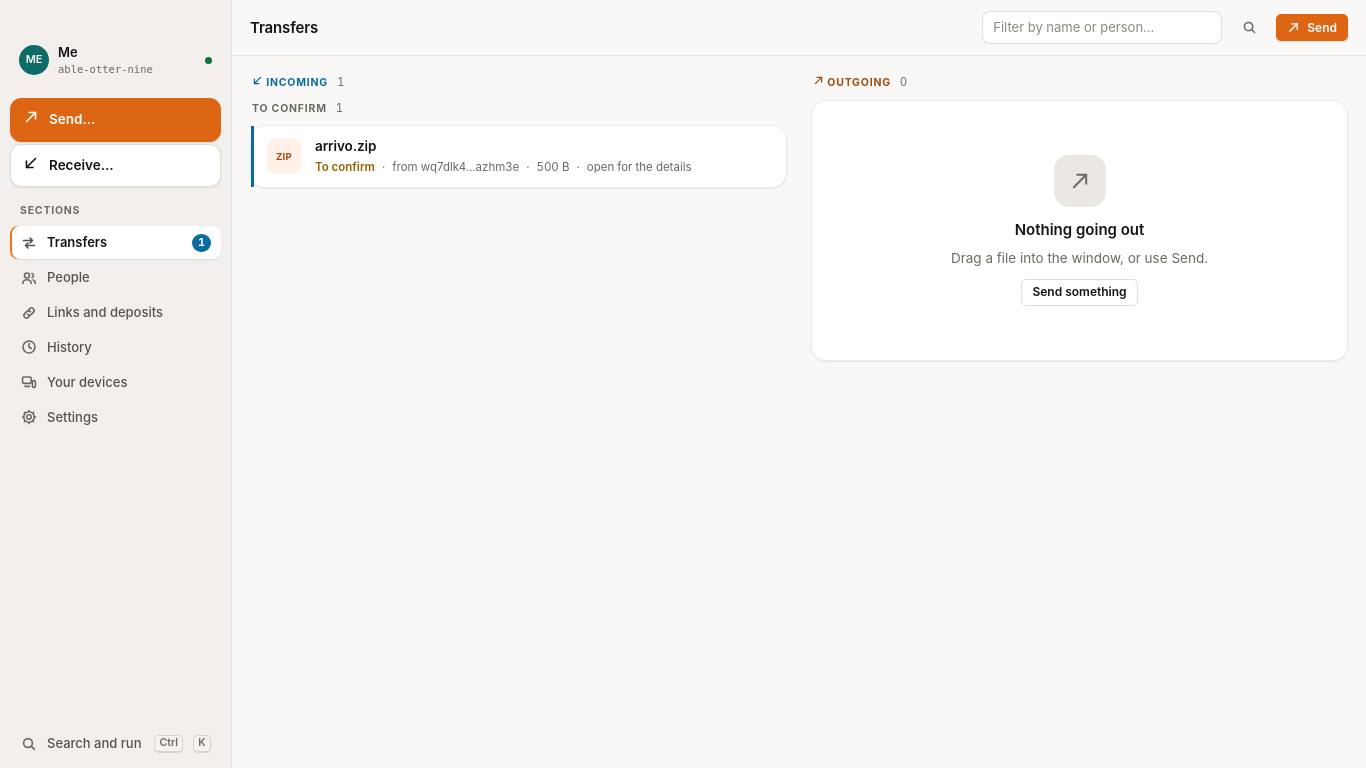
an incoming offer › 135. it shows the sender's note
The width and height of the screenshot is (1366, 768).
Click the text "arrivo.zip".
click(346, 146)  # box 315,138 -> 376,154
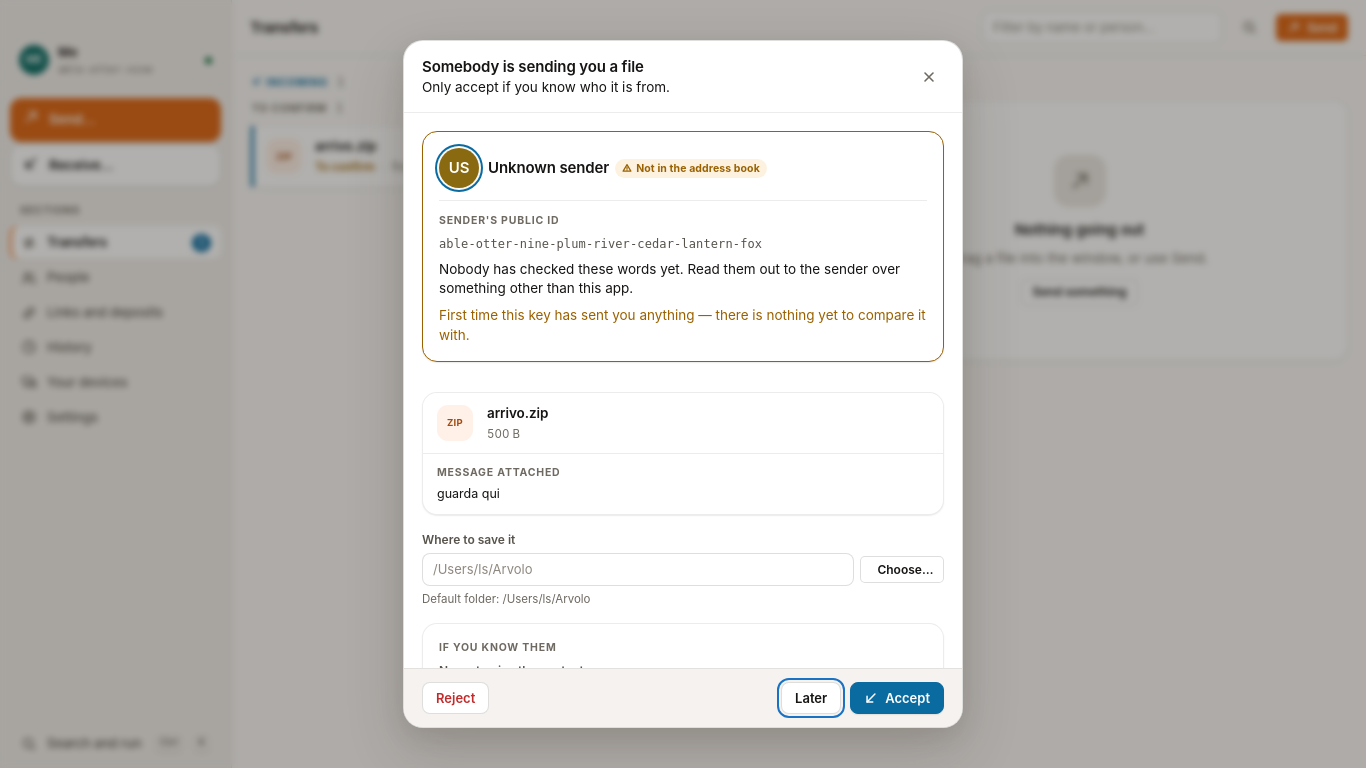
Now the text "guarda qui" is shown, box 437,486 -> 500,501
